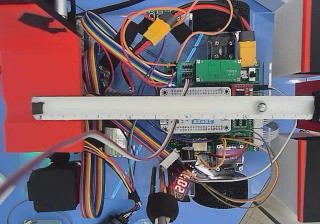ironball: (257, 101, 266, 112)
